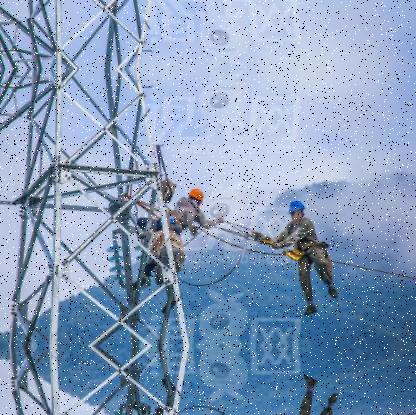helmet: (286, 195, 307, 221), (186, 185, 205, 206), (160, 212, 177, 230)
